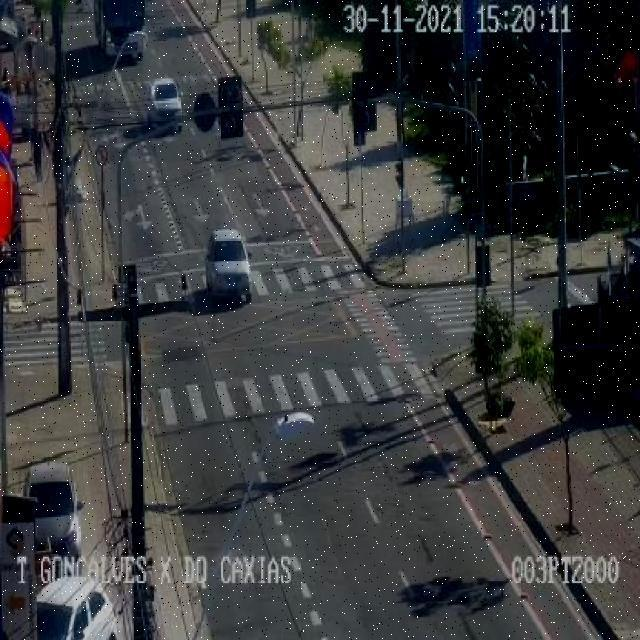Car: (21, 433, 98, 555), (20, 564, 125, 640), (208, 215, 270, 311), (141, 75, 200, 139)
Truck: (80, 0, 164, 61)
